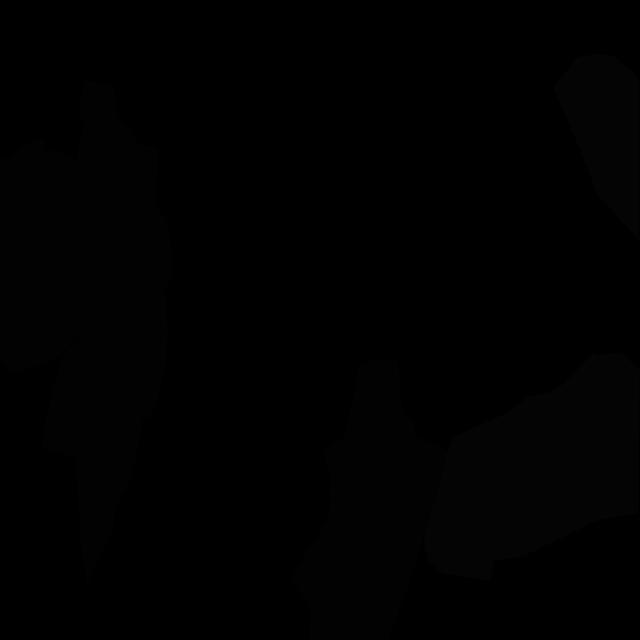cardboard: (291, 358, 447, 640), (42, 342, 142, 585), (0, 140, 98, 373), (75, 204, 172, 419), (77, 81, 168, 234)
soft_plastic: (424, 353, 640, 581), (554, 54, 639, 241)
